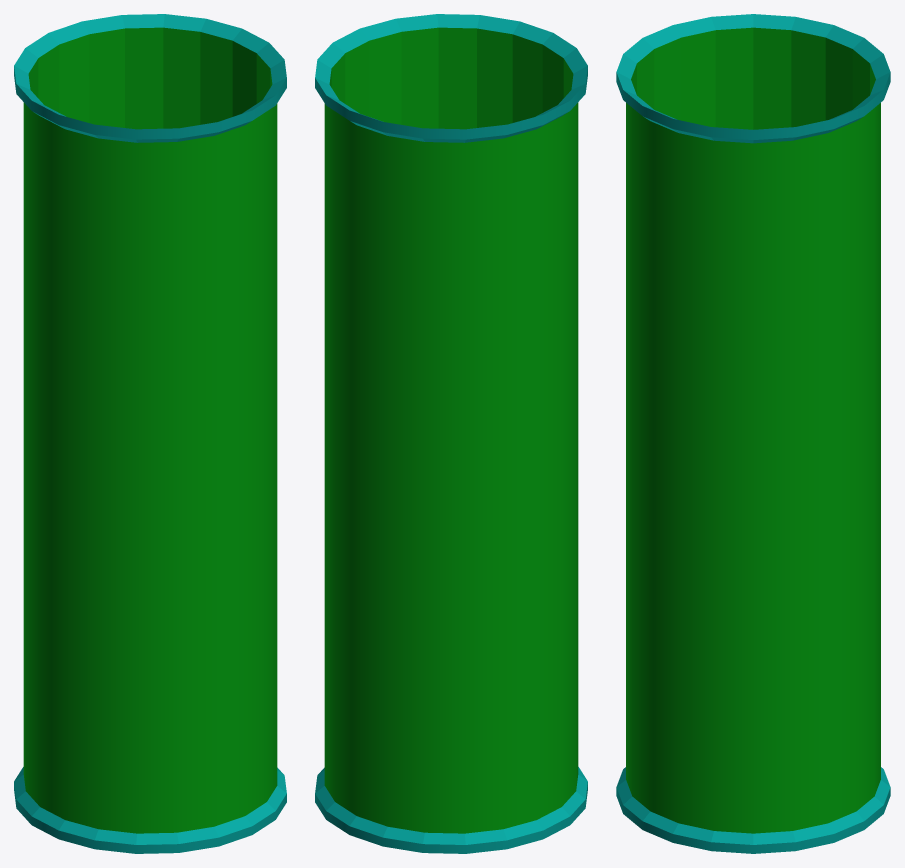
Rendered from prongles can tube.fbx.
The picture shows the model from 3 angles, left to right: view 1: azimuth 30°, elevation 25°; view 2: azimuth 150°, elevation 25°; view 3: azimuth 270°, elevation 25°; orthographic projection.
Visible parts, largest first — view 1: pCylinder2; view 2: pCylinder2; view 3: pCylinder2.
Boxes of the visible parts, x1=… form: pCylinder2: x1=14, y1=14, x2=286, y2=853; pCylinder2: x1=315, y1=14, x2=587, y2=853; pCylinder2: x1=616, y1=14, x2=890, y2=853.
Bounding box in the file's own units: 2.15 × 6.27 × 2.15.
